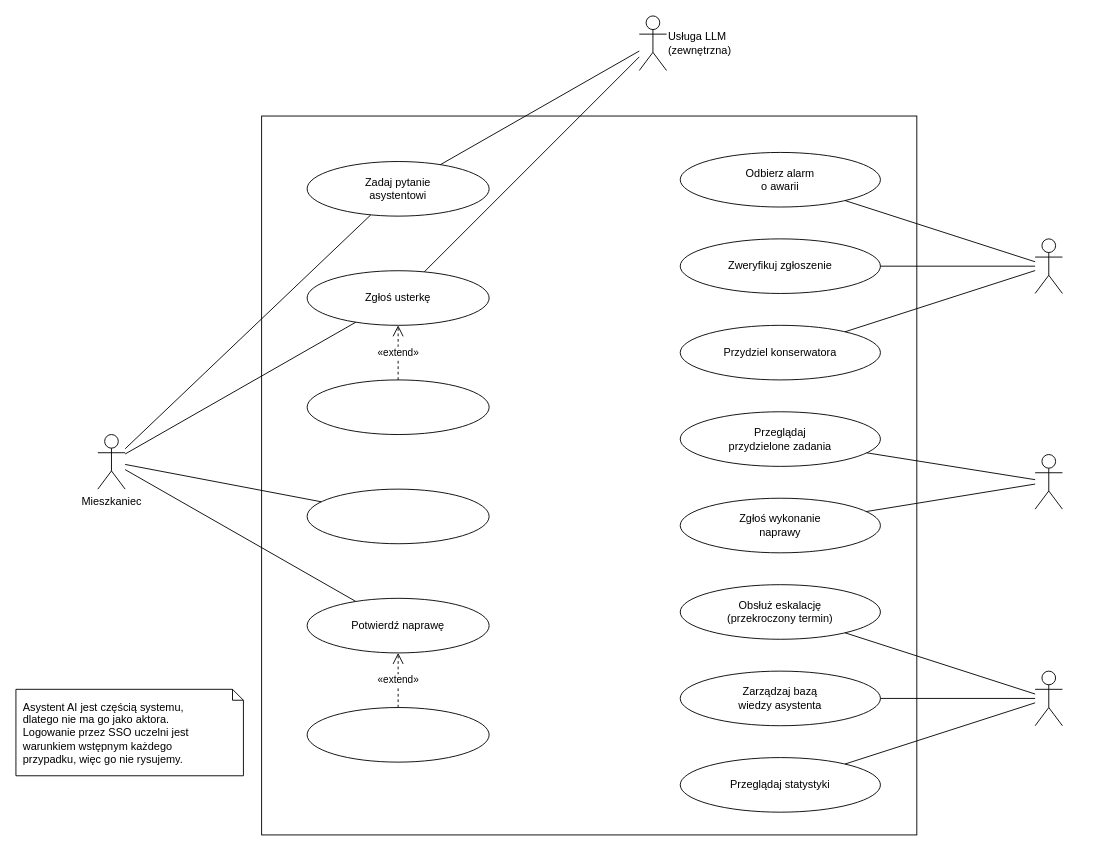
The diagram is 1095 pixels wide and 851 high, and some of its shapes have lost their labels. Each missing label, with the box of its shape:
Helpdesk Akademika: (261, 115, 917, 835)
Kierownik: (1034, 670, 1062, 726)
Konserwator: (1034, 454, 1062, 509)
Oceń obsługę: (306, 707, 489, 762)
Recepcja: (1034, 238, 1062, 293)
Sprawdź status zgłoszenia: (306, 488, 489, 544)
Zgłoś awarię krytyczną: (306, 379, 489, 435)
